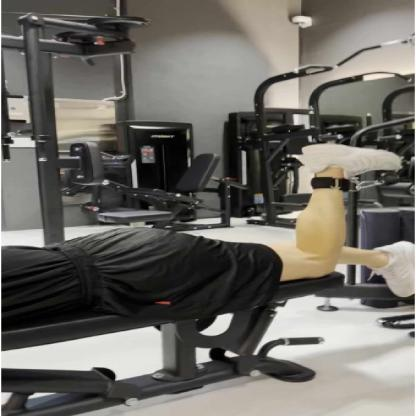reg curl machine: (0, 136, 416, 416)
